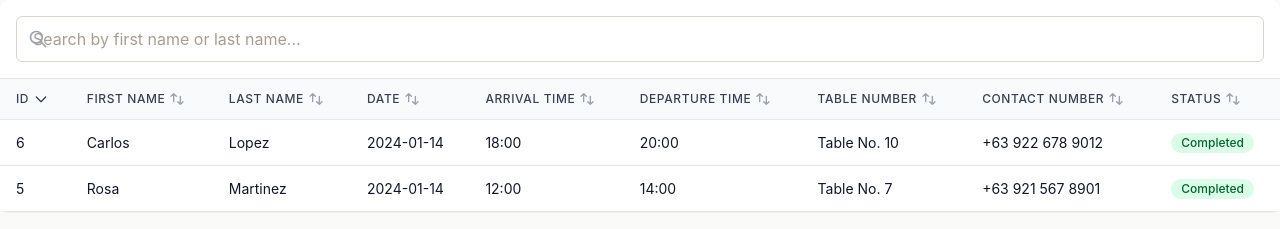
Test case: HistoryTable › should display empty state when search has no results
Type "NonExistent" into the field with placeholder "Search by first name or last name...".
click(640, 39); type("NonExistent")  # box [16,16,1264,62]
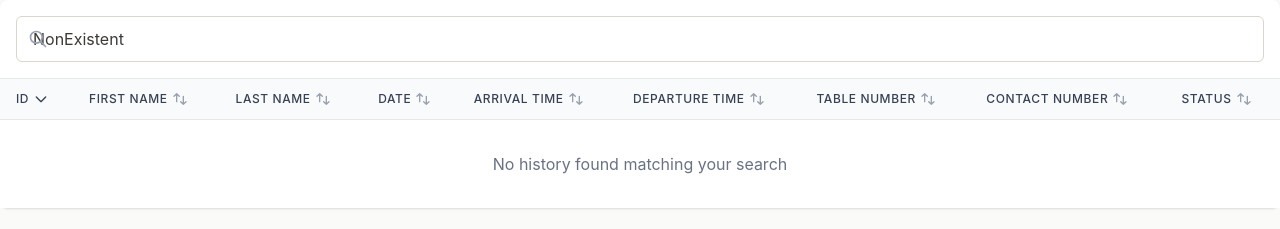
Now the text "No history found matching your search" is shown, box [0,120,1279,208]
